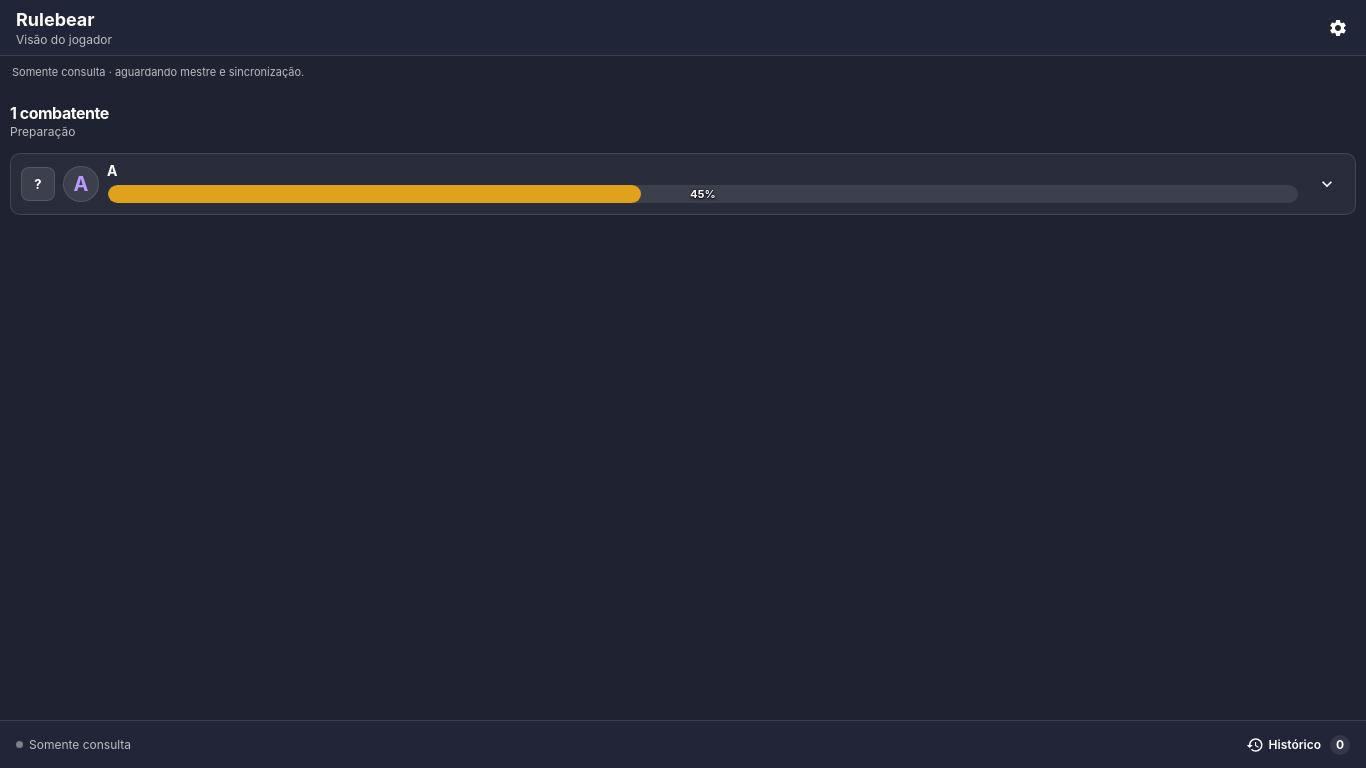
painel de jogadores › mostra ajustes separados de HP atual e máximo conforme a autorização
Click the button named "Ações de HP: 45%" at {"x": 703, "y": 194}, box [107,182,1299,206]
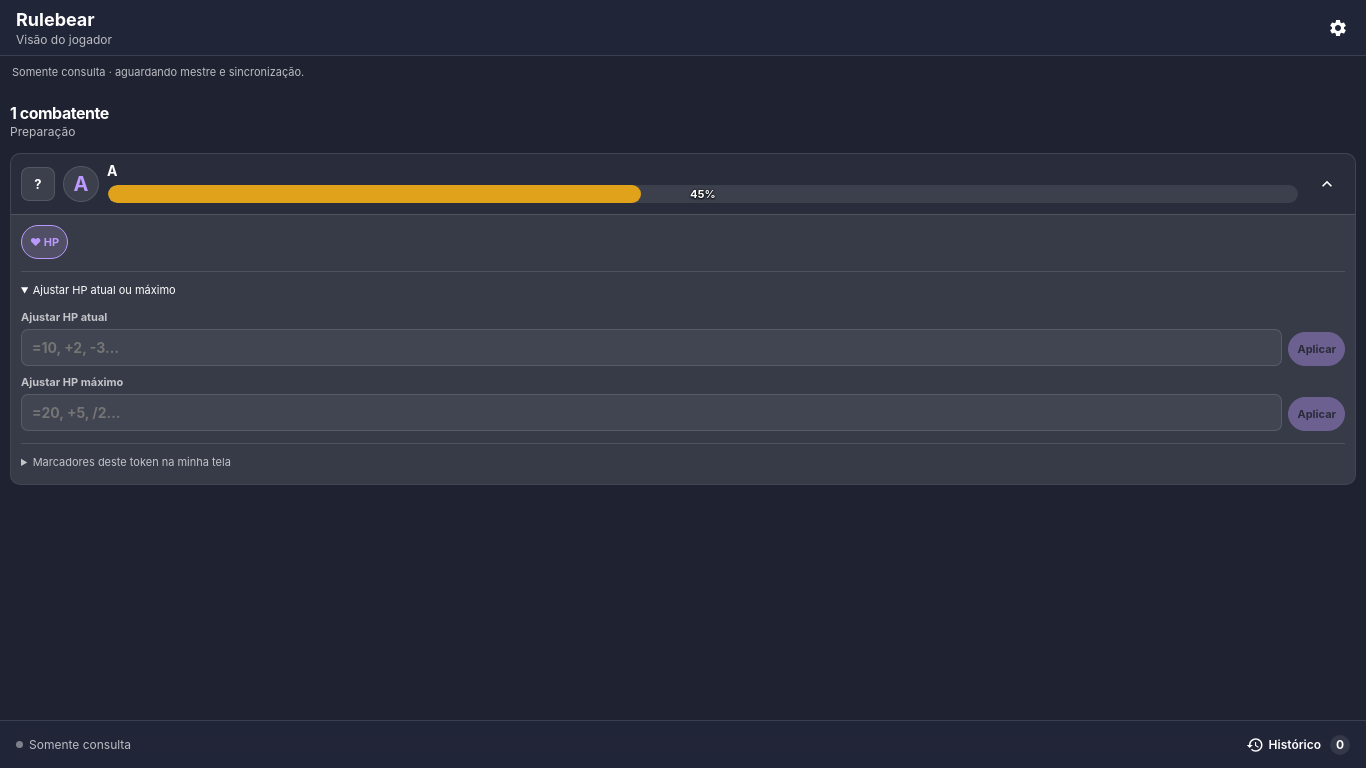
Expected: the field labelled "Ajustar HP atual" is shown, [21,329,1282,366]
Expected: the field labelled "Ajustar HP máximo" is shown, [21,394,1282,431]
